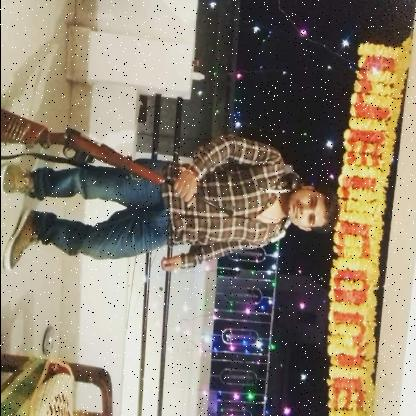rifle: (0, 108, 237, 220)
